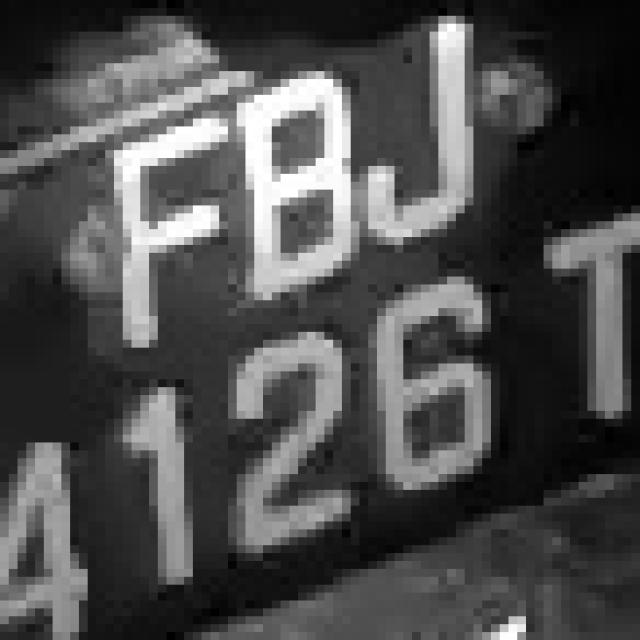1: (114, 364, 193, 608)
2: (184, 324, 368, 577)
4: (9, 411, 114, 624)
6: (342, 245, 500, 537)
B: (219, 79, 368, 316)
F: (96, 103, 228, 340)
J: (342, 8, 500, 245)
T: (526, 198, 640, 434)
